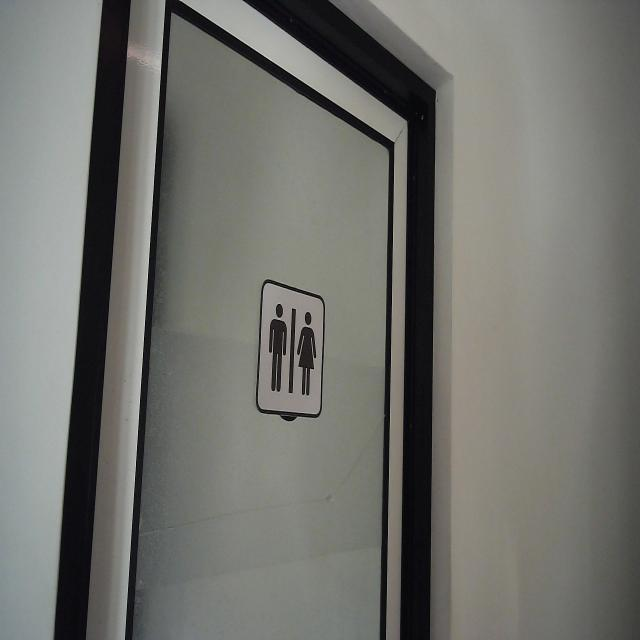restroom: (254, 276, 326, 420)
